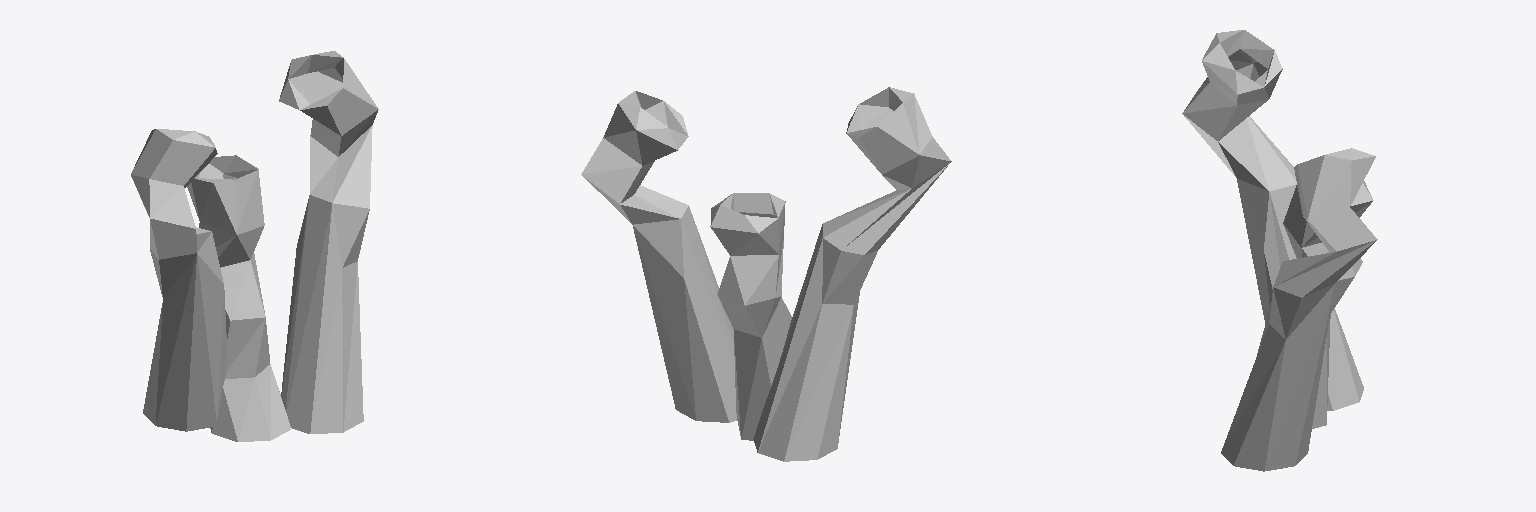
The model's file is coral_low.obj.
The picture shows the model from 3 angles: view 1: azimuth 30°, elevation 25°; view 2: azimuth 150°, elevation 25°; view 3: azimuth 270°, elevation 25°; orthographic projection.
Parts seen in each view (by area): view 1: Circle.001_Circle.002; view 2: Circle.001_Circle.002; view 3: Circle.001_Circle.002.
Part boxes in pixels (x1,y1,x2,y2): Circle.001_Circle.002: (131,51,378,441); Circle.001_Circle.002: (581,87,951,461); Circle.001_Circle.002: (1182,30,1377,471).
Bounding box in the file's own units: 4.4 × 4.9 × 2.57.